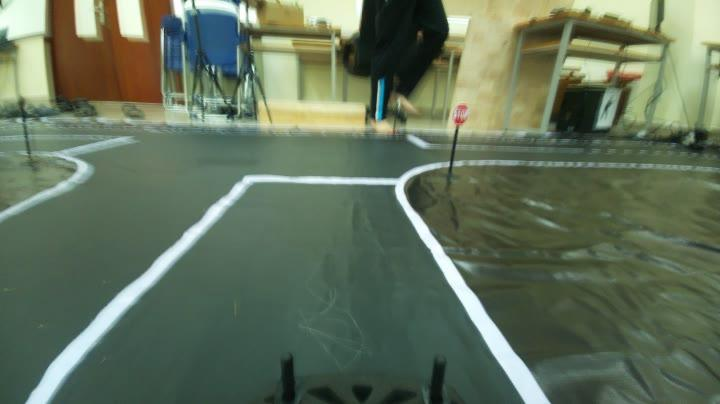stop: (447, 100, 470, 129)
